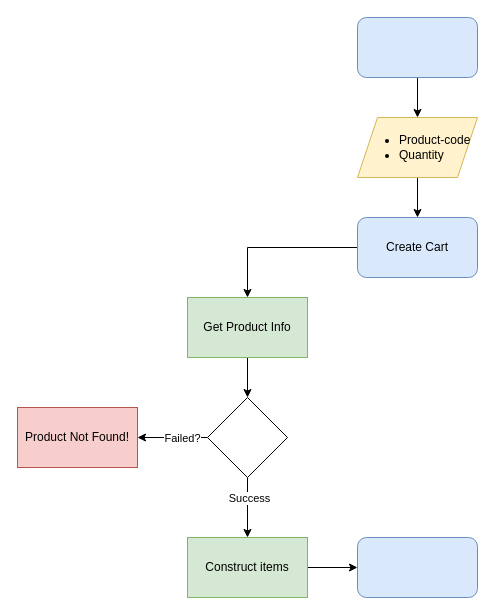
The diagram is 495 pixels wide and 615 high, and some of its shapes have lost their labels. The shapes that lost their labels are listed below. From the top down, each one's centre as x and y in pixels, then its label:
pixel 417 47: Add to Cart
pixel 417 567: Save cart
